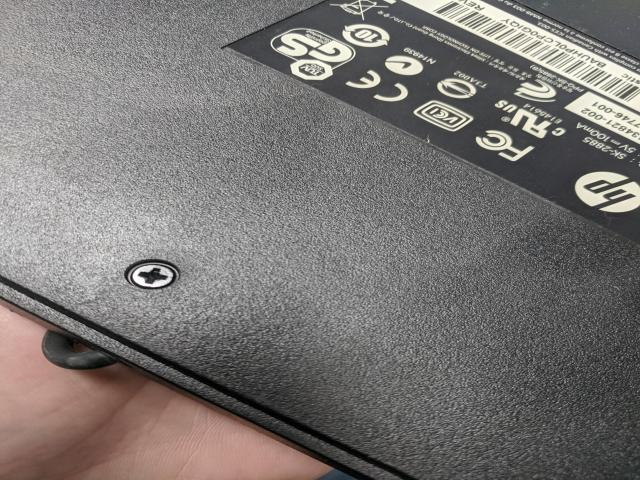CRS: (128, 263, 177, 289)
